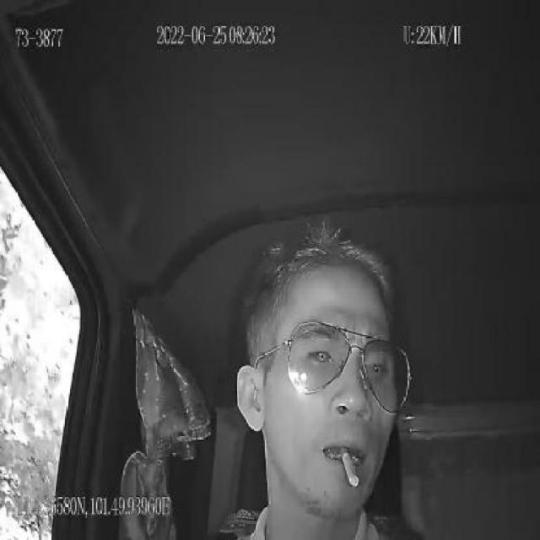smoking: (338, 444, 359, 489)
